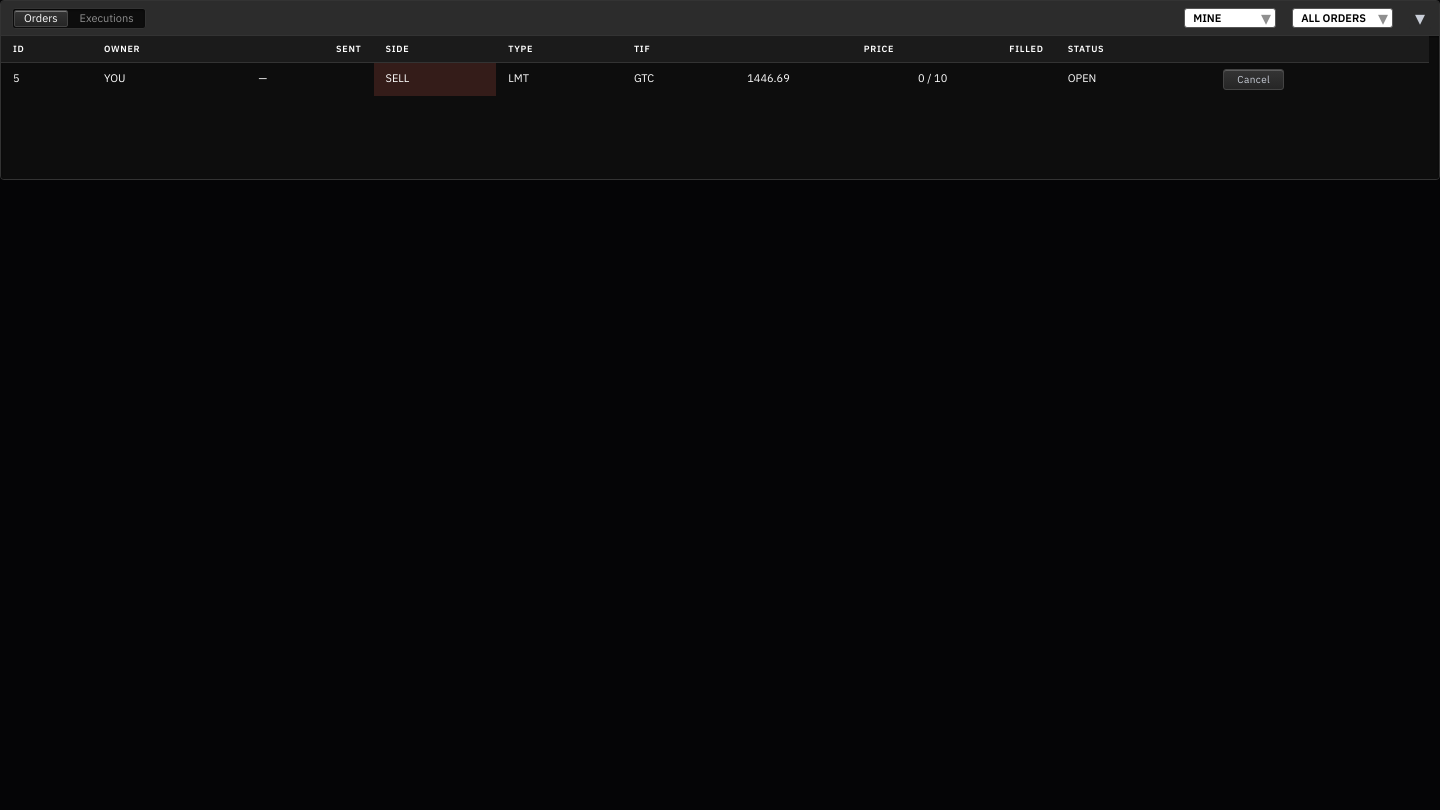
topmost confirmation popups › leaves the row Cancel confirmation as it was: not topmost, an outside click closes it
Click the button with test id "cancel-5" at (1254, 79), box [1223,69,1284,90]
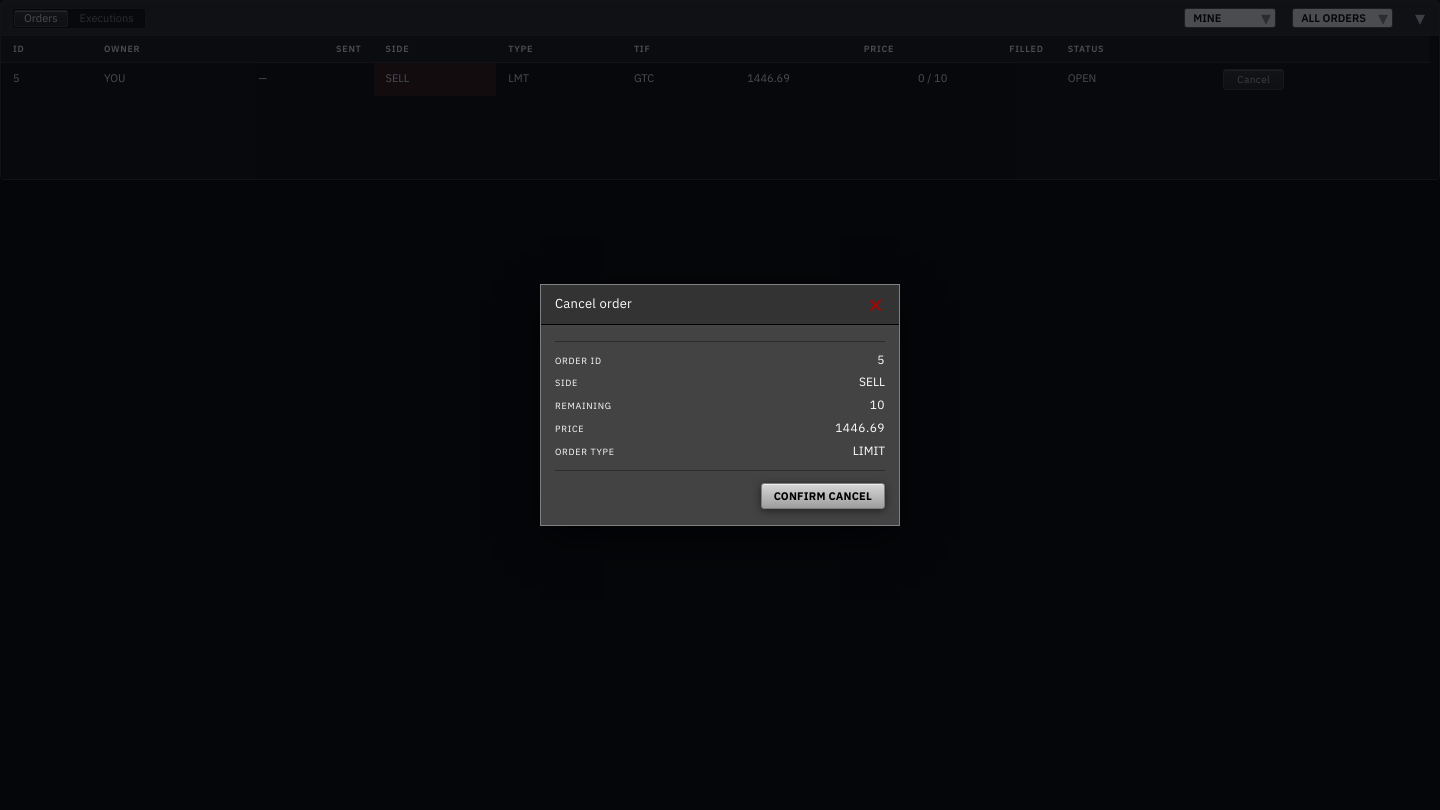
Press the mouse on the element with test id "cancel-confirm-overlay" at (720, 405), box [0,0,1439,809]
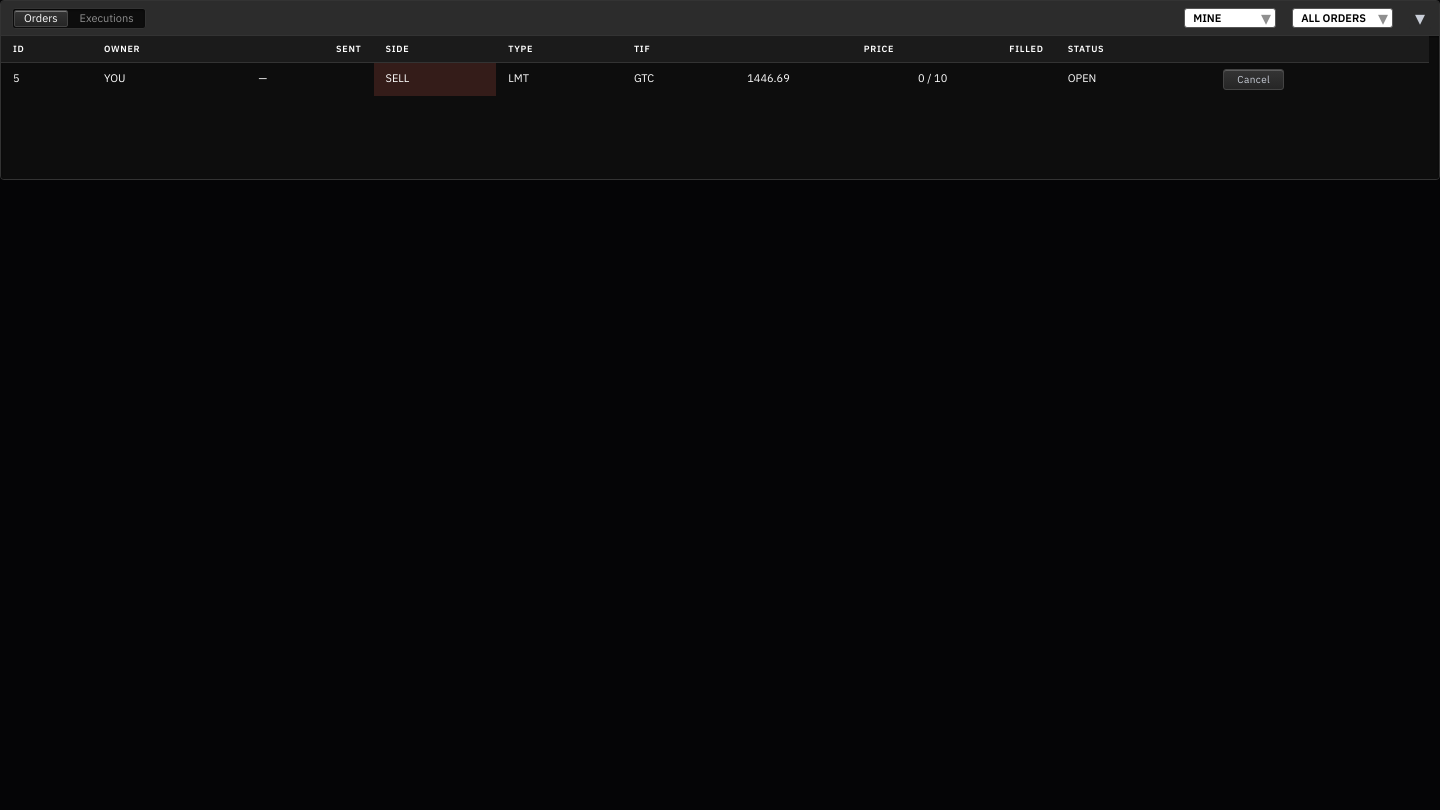
expect the element with test id "cancel-confirm-overlay" is gone: met
